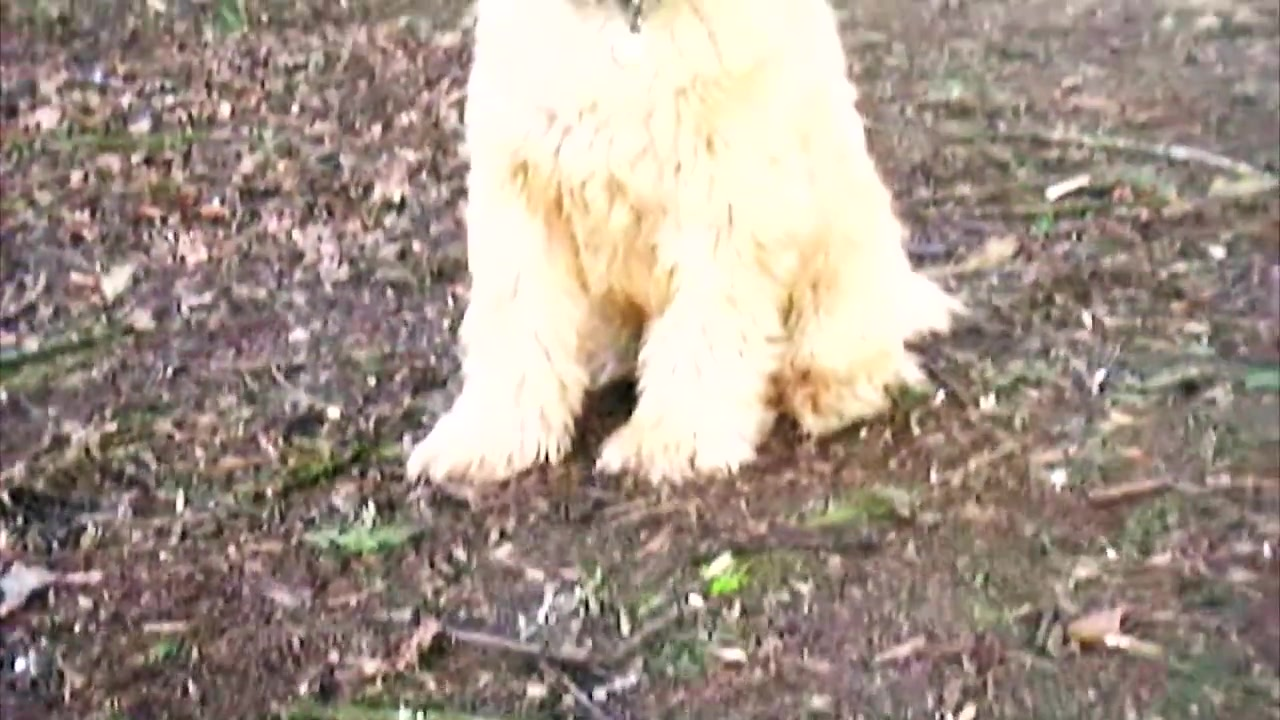dog: (403, 2, 964, 493)
